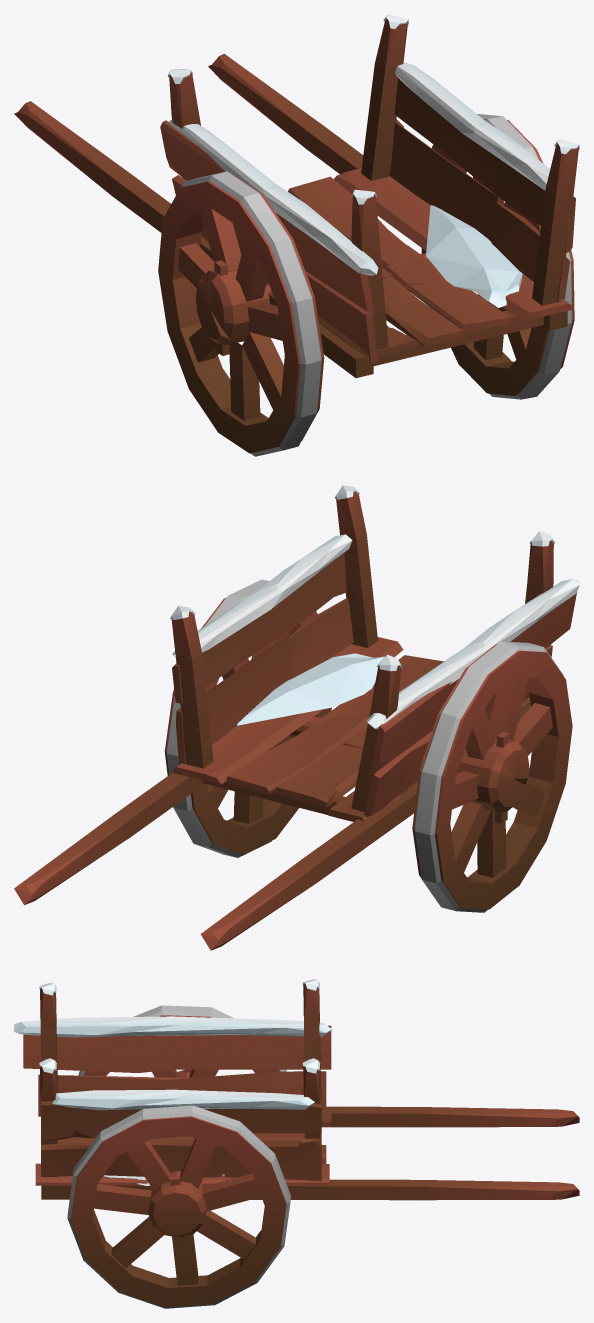
The picture shows the model from 3 angles, top to bottom: view 1: azimuth 30°, elevation 25°; view 2: azimuth 150°, elevation 25°; view 3: azimuth 270°, elevation 25°; orthographic projection. The views are drawn at different scales.
Parts seen in each view (by area): view 1: SnowyCart; view 2: SnowyCart; view 3: SnowyCart.
Boxes of the visible parts, x1,y1,x2,y2 form: SnowyCart: [14, 14, 579, 456]; SnowyCart: [14, 485, 579, 950]; SnowyCart: [14, 979, 579, 1308].
Size of the model in its own units: 2.4 by 2.31 by 4.92.
1 material, 1 textured.
